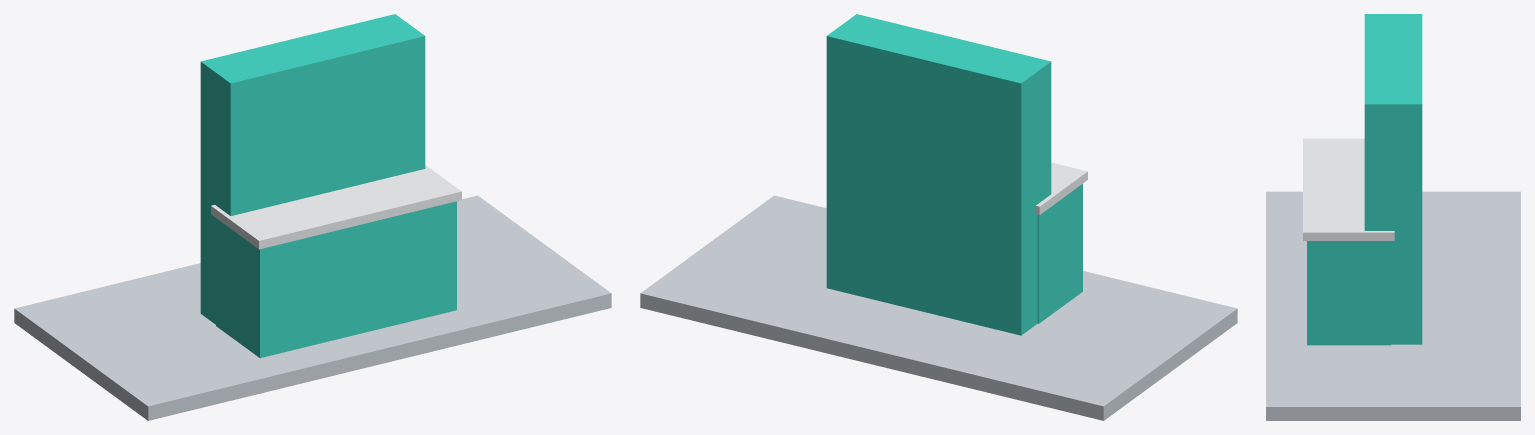
3 renders of one model, left to right at view 1: azimuth 30°, elevation 25°; view 2: azimuth 150°, elevation 25°; view 3: azimuth 270°, elevation 25°, orthographic. The views are drawn at different scales.
Visible parts, largest first — view 1: Exhibition Booth Concept; view 2: Exhibition Booth Concept; view 3: Exhibition Booth Concept.
Boxes of the visible parts, <box> form: Exhibition Booth Concept: <box>14,14,611,420</box>; Exhibition Booth Concept: <box>640,14,1237,420</box>; Exhibition Booth Concept: <box>1266,14,1520,420</box>.
Size of the model in its own units: 4 by 2.2 by 2.
